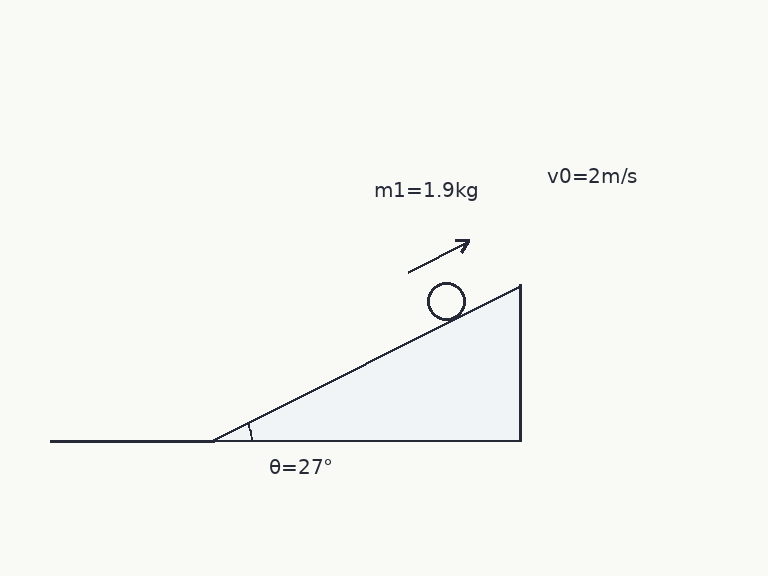ball: (425, 280, 467, 322)
ramp: (210, 282, 521, 443)
